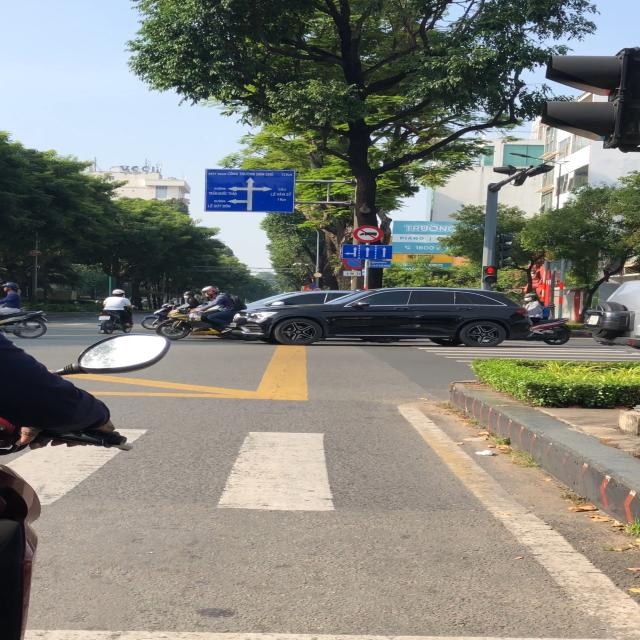Bien bao cam xe so-mi ro-mooc: (351, 225, 386, 243)
